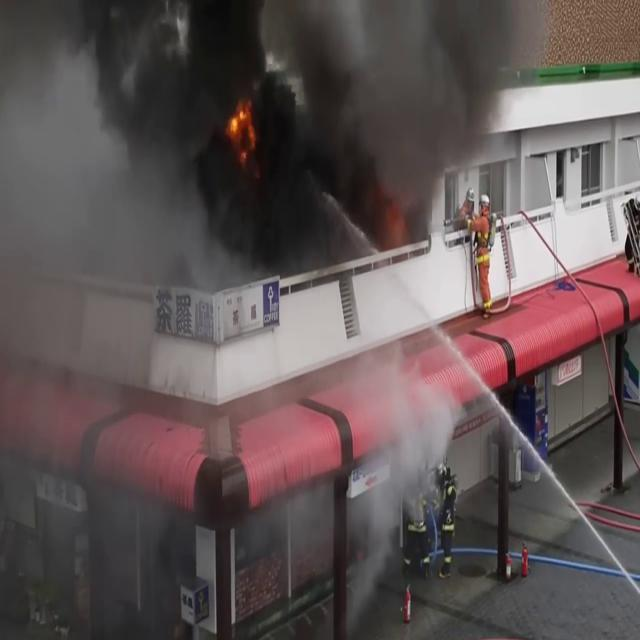Fire: (226, 92, 256, 154)
Smoke: (16, 0, 533, 252), (0, 0, 176, 494)
